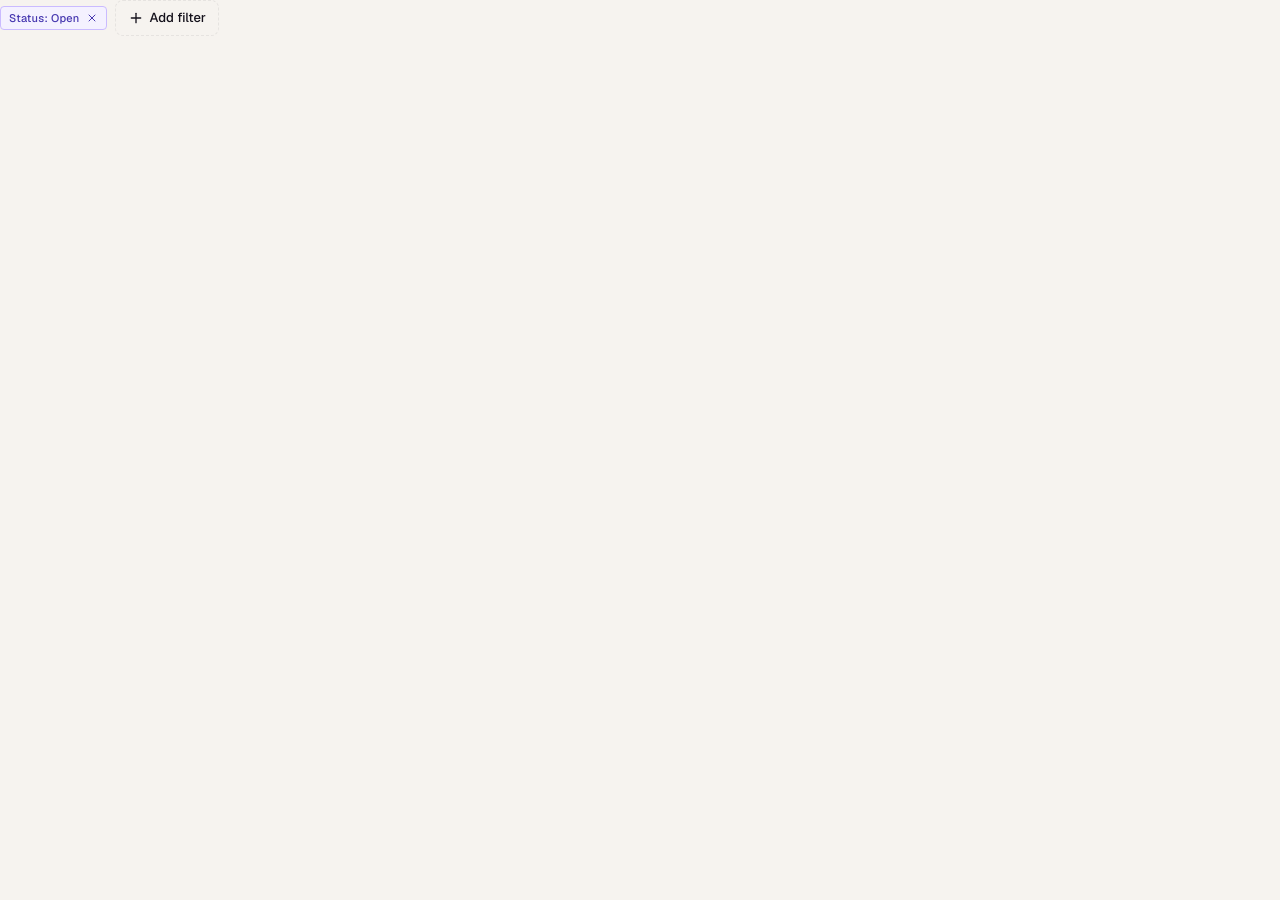
Scenario: FilterChipsBar › hides an active filter type from the Add filter menu, and lists the rest
The width and height of the screenshot is (1280, 900).
What coordinates should you click on to do the following:
click the button with test id "add-filter"
I would click on:
 (167, 18)
Its box is left=115, top=0, right=219, bottom=36.
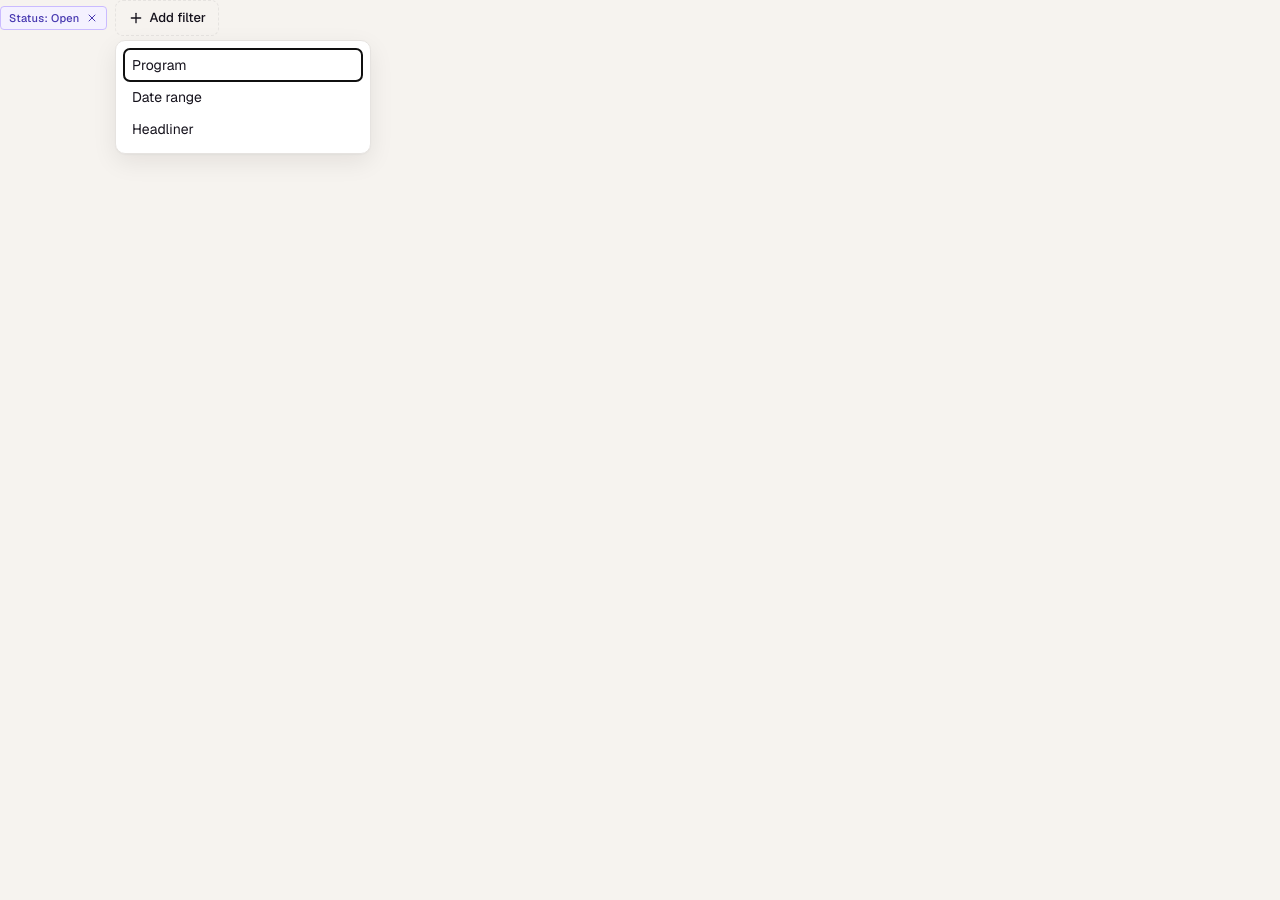
Check: the button with test id "add-filter-option-program" is shown, box left=124, top=49, right=362, bottom=81
Check: the button with test id "add-filter-option-timeframe" is shown, box left=124, top=81, right=362, bottom=113
Check: the button with test id "add-filter-option-custom-headliner" is shown, box left=124, top=113, right=362, bottom=145
